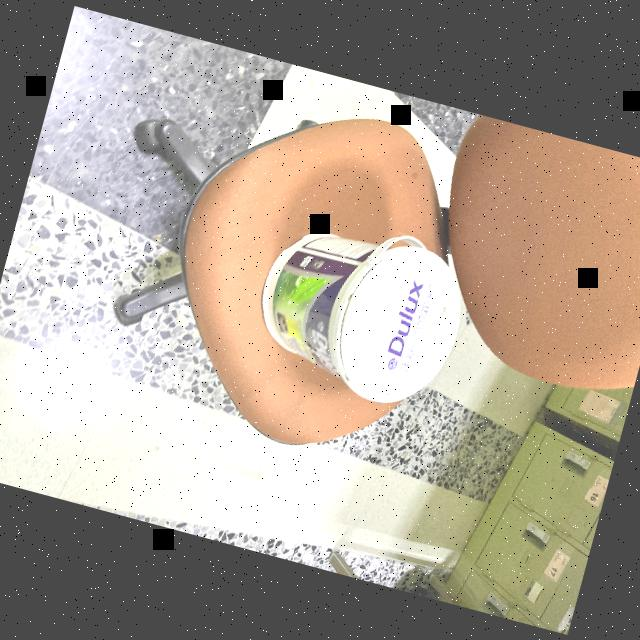paint_bucket: (238, 208, 482, 420)
